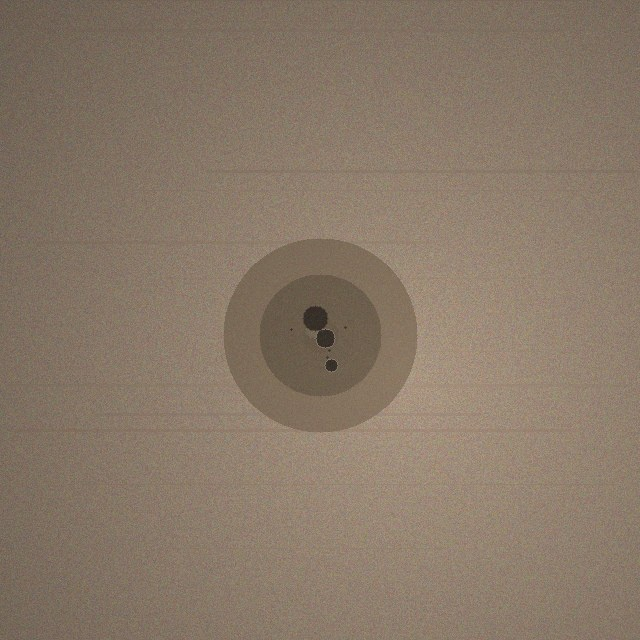shrinkage: (223, 238, 417, 432)
